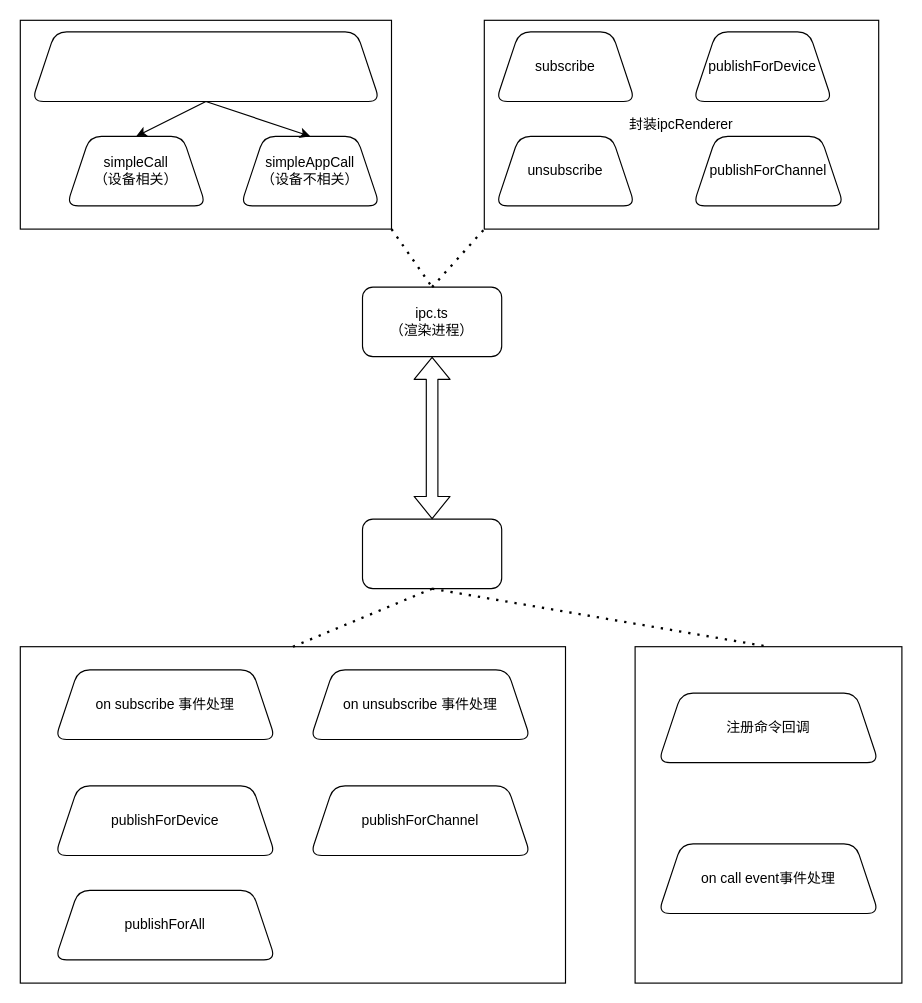
Image size: 922x1003. Some labels were removed from this diagram. Each missing label, with the centre of its shape:
call (封装ipcRenderer，加入超时处理、命令标识等): (205,66)
ipc.ts （主进程）: (431,553)
